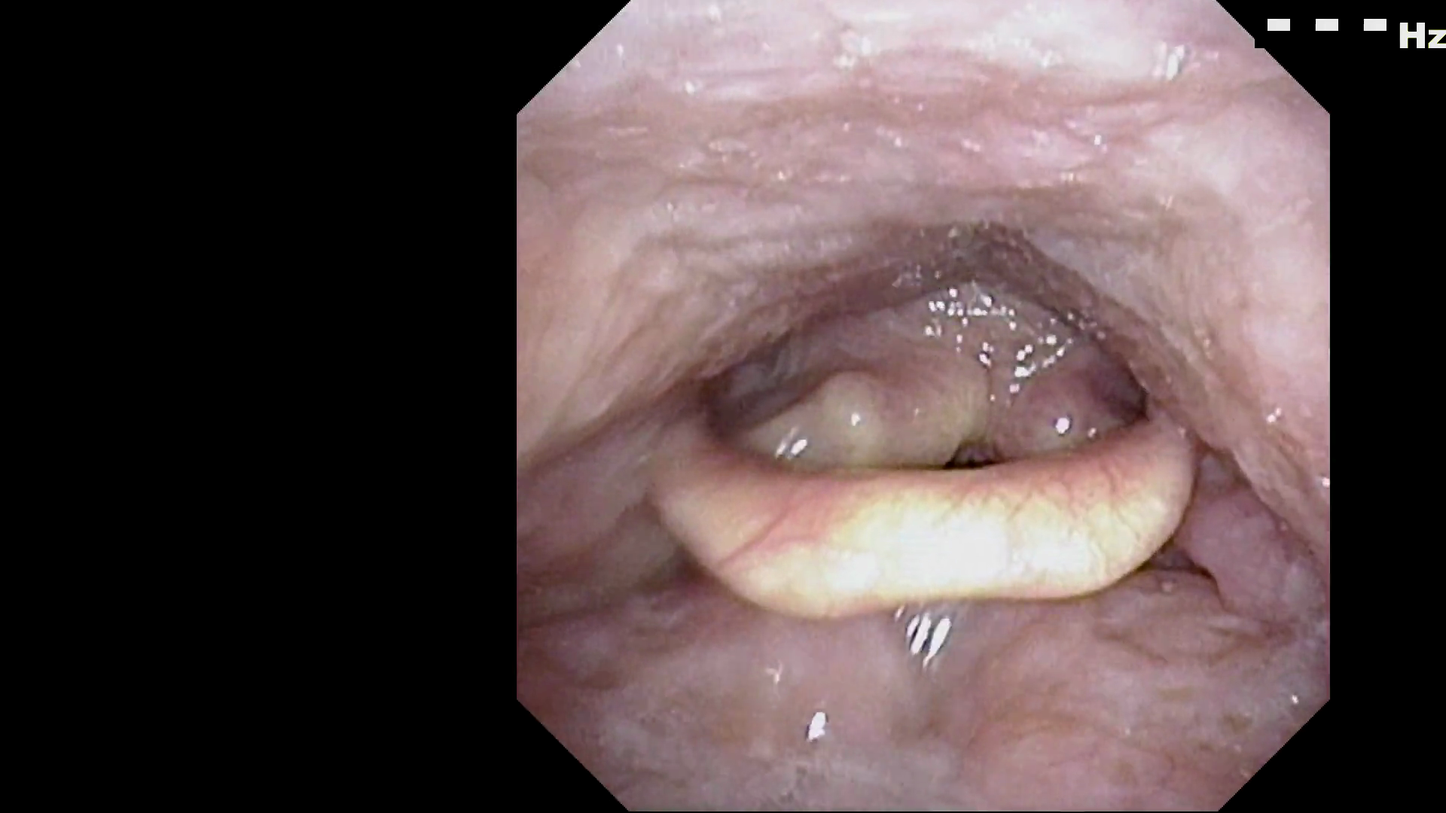epiglottis: (641, 382, 1219, 655)
trachea: (937, 423, 1019, 511)
